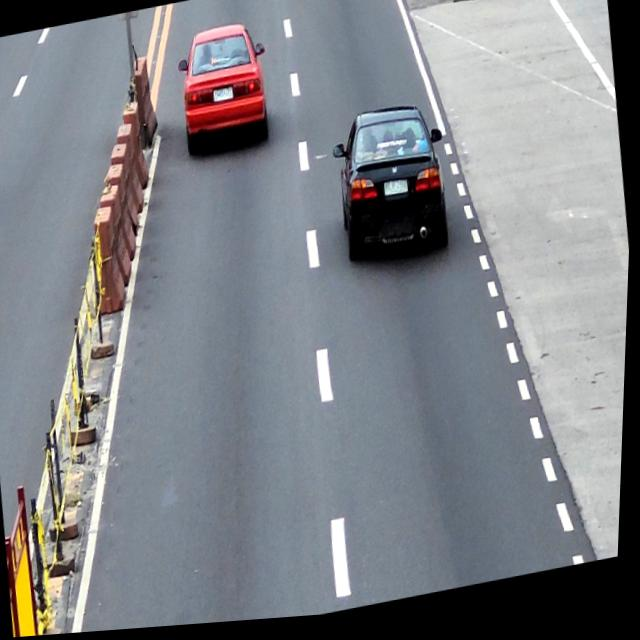Car: (327, 103, 458, 277), (172, 21, 277, 161)
License-Plate: (385, 183, 410, 203), (213, 91, 235, 106)
